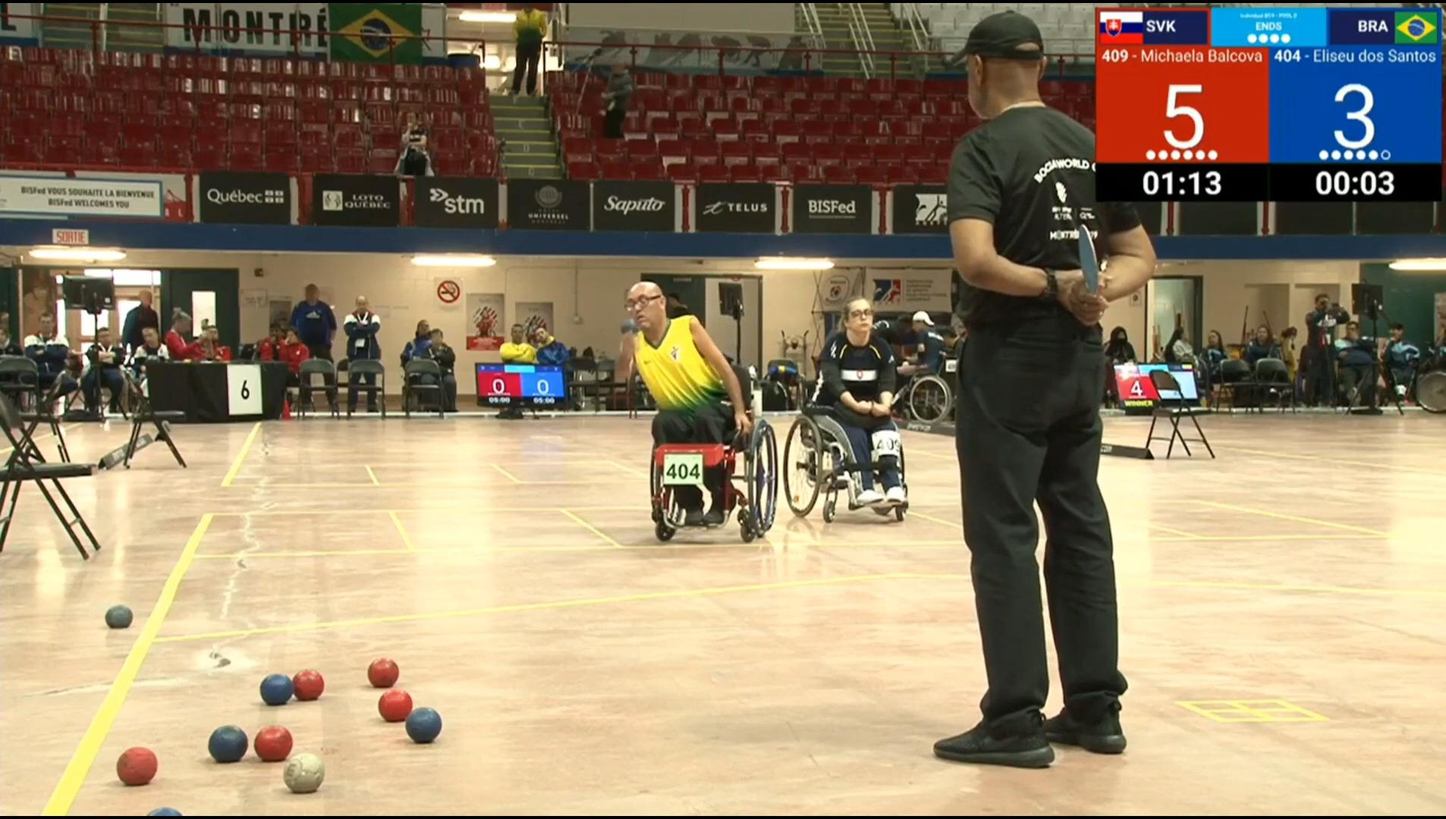blue_ball: (210, 726, 248, 762), (407, 708, 441, 743), (262, 675, 292, 703), (107, 606, 131, 627)
red_ball: (116, 747, 156, 784), (257, 726, 293, 759), (369, 658, 399, 689), (379, 690, 410, 720), (294, 671, 323, 700)
white_ball: (284, 754, 323, 793)
